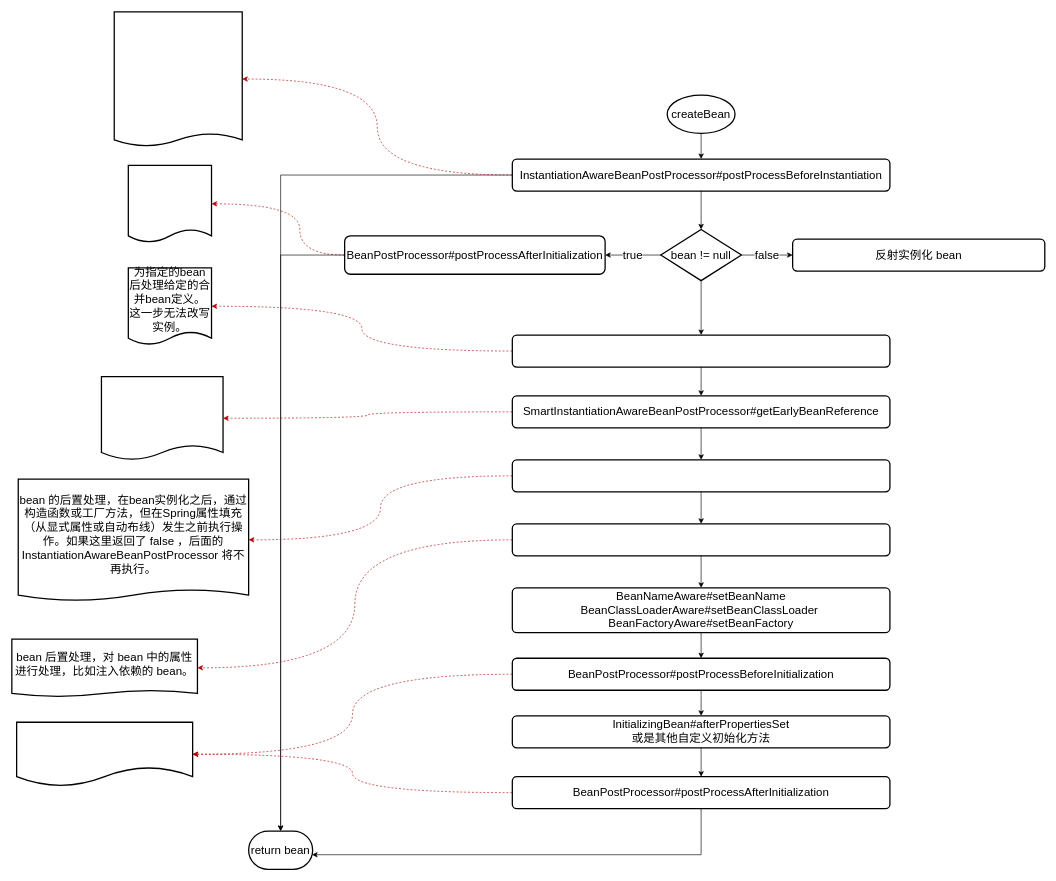
Image size: 1056x881. Some labels were removed from this diagram. Each missing label, with the centre of its shape:
"bean 实例化前置处理器在这一步可以直接返回 bean 的实例，如果这里返回的值 不为 null ，后续流程会使用这里返回的实例，不会再去创建实例。" goes at pixel 178 79.
"InstantiationAwareBeanPostProcessor#postProcessAfterInstantiation" goes at pixel 700 475.
"InstantiationAwareBeanPostProcessor#postProcessProperties" goes at pixel 700 539.
"MergedBeanDefinitionPostProcessor#postProcessMergedBeanDefinition" goes at pixel 700 350.
"可以对 bean 进行改写，如果有一个 BeanPostProcessor 返回为 null ，后面的处理器不再被调用。" goes at pixel 104 754.
"执行 bean 实例化后置处理器，这里可以改写 bean 的实例。" goes at pixel 169 203.
"获取对指定bean的早期访问的引用，通常用于解析循环引用。这一步可以改写 bean。" goes at pixel 161 418.
